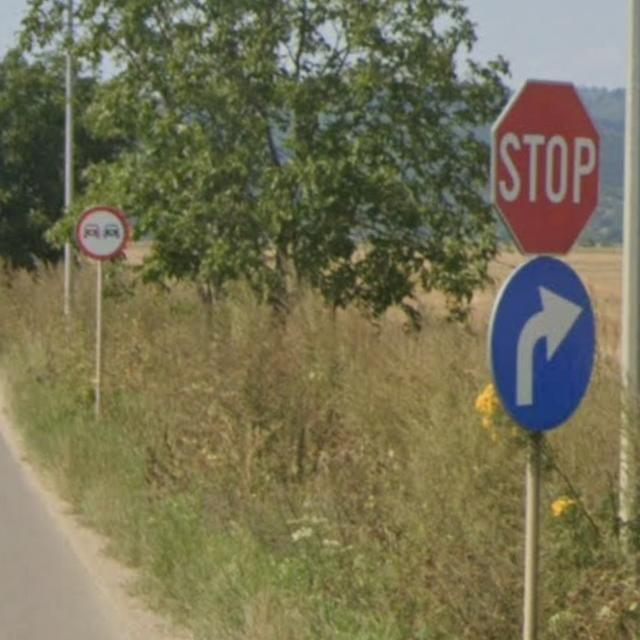forb_overtake: (75, 206, 129, 259)
prio_stop: (487, 75, 600, 258)
